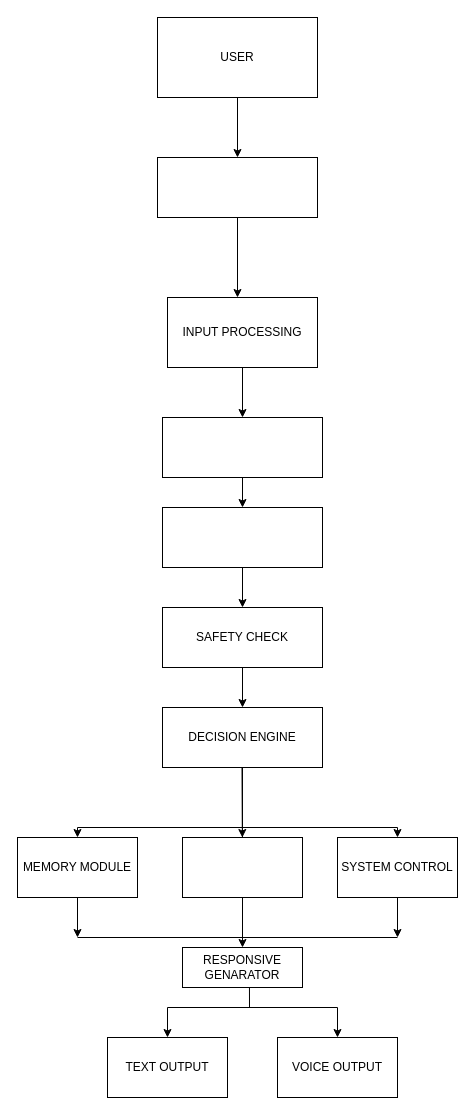
Image size: 475x1115. Some labels were removed from this diagram. Here are the shapes that lost their labels. From the top down, the centre of each, then its label:
the point at 237,187: WAKE WORD
the point at 242,447: INTENT DETECCTION
the point at 242,537: REASONING ENGINE
the point at 242,867: AUTOMATION MODULE
